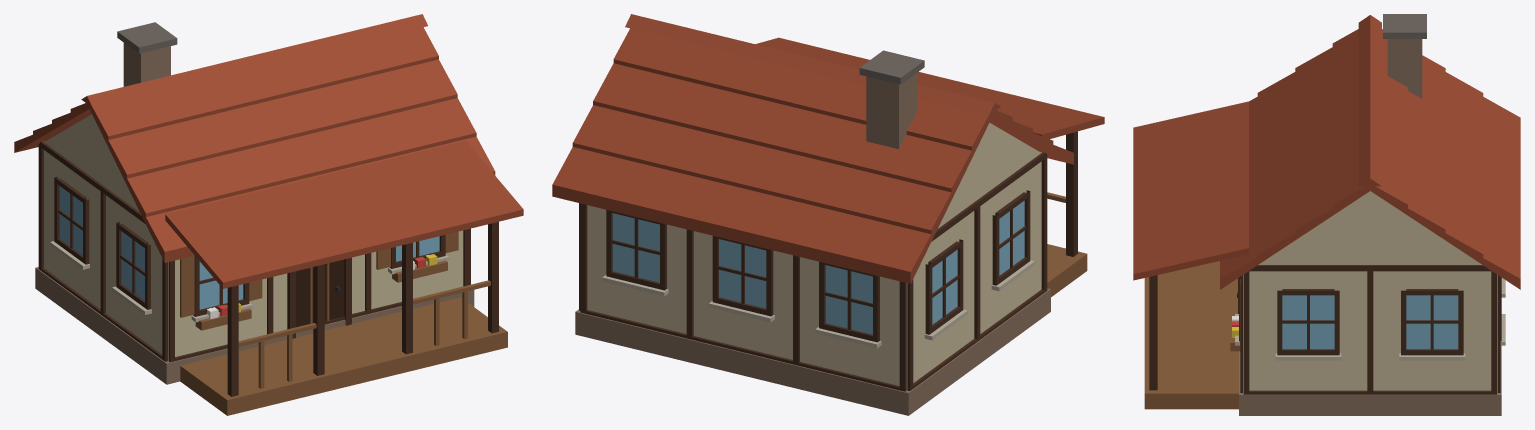
The model's file is house_08_porch_house.fbx.
3 renders of one model, left to right at view 1: azimuth 30°, elevation 25°; view 2: azimuth 150°, elevation 25°; view 3: azimuth 270°, elevation 25°, orthographic. The views are drawn at different scales.
Parts seen in each view (by area): view 1: house_08_porch_house; view 2: house_08_porch_house; view 3: house_08_porch_house.
Boxes of the visible parts, x1,y1,x2,y2 form: house_08_porch_house: (14, 14, 523, 415); house_08_porch_house: (552, 14, 1104, 415); house_08_porch_house: (1133, 14, 1520, 415).
Bounding box in the file's own units: 6.7 × 5.22 × 6.7.
